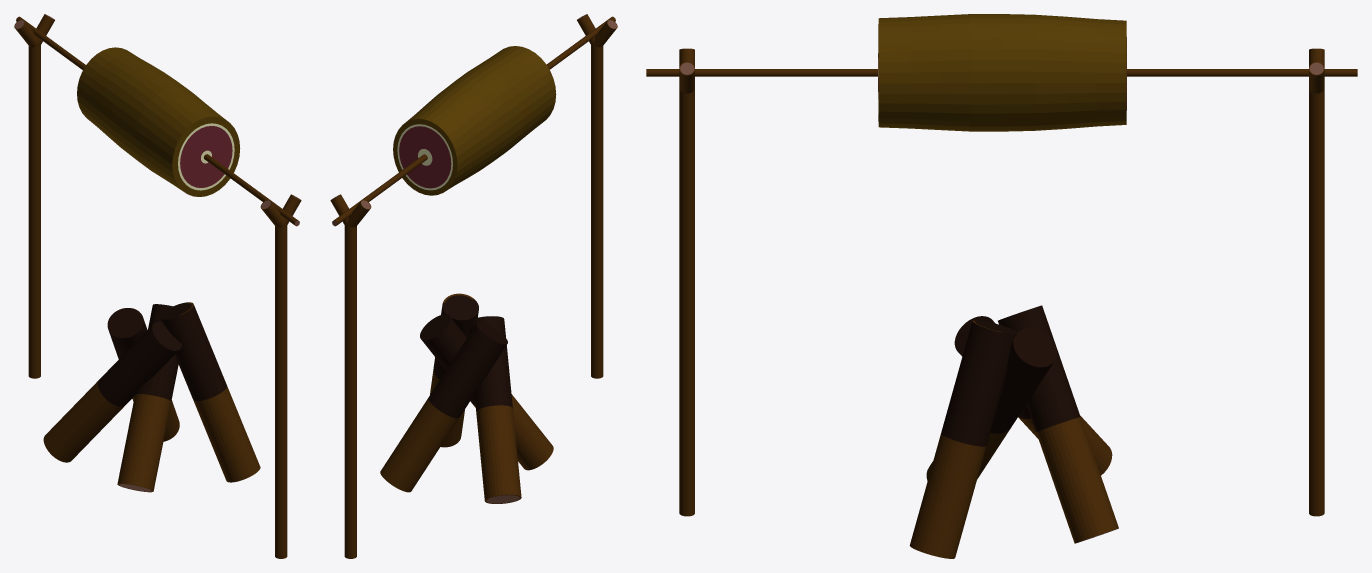
File: firecamp_old.fbx
3 renders of one model, left to right at view 1: azimuth 30°, elevation 25°; view 2: azimuth 150°, elevation 25°; view 3: azimuth 270°, elevation 25°, orthographic. The views are drawn at different scales.
Visible parts, largest first — view 1: Firecamp, meal, stick.002, stick.001, stick; view 2: Firecamp, meal, stick.001, stick.002, stick; view 3: meal, Firecamp, stick.002, stick.001, stick.
Part boxes in pixels (x1,y1,x2,y2): Firecamp: (43, 302, 260, 492); meal: (77, 47, 240, 196); stick.002: (14, 14, 54, 378); stick.001: (260, 194, 301, 558); stick: (16, 16, 299, 226); Firecamp: (380, 293, 553, 503); meal: (393, 46, 556, 195); stick.001: (577, 14, 617, 378); stick.002: (330, 194, 371, 558); stick: (332, 16, 615, 226); meal: (878, 14, 1126, 131); Firecamp: (909, 305, 1118, 558); stick.002: (1309, 48, 1324, 516); stick.001: (679, 48, 694, 516); stick: (646, 69, 1357, 76).
Bounding box in the file's own units: 143 × 354 × 452.
